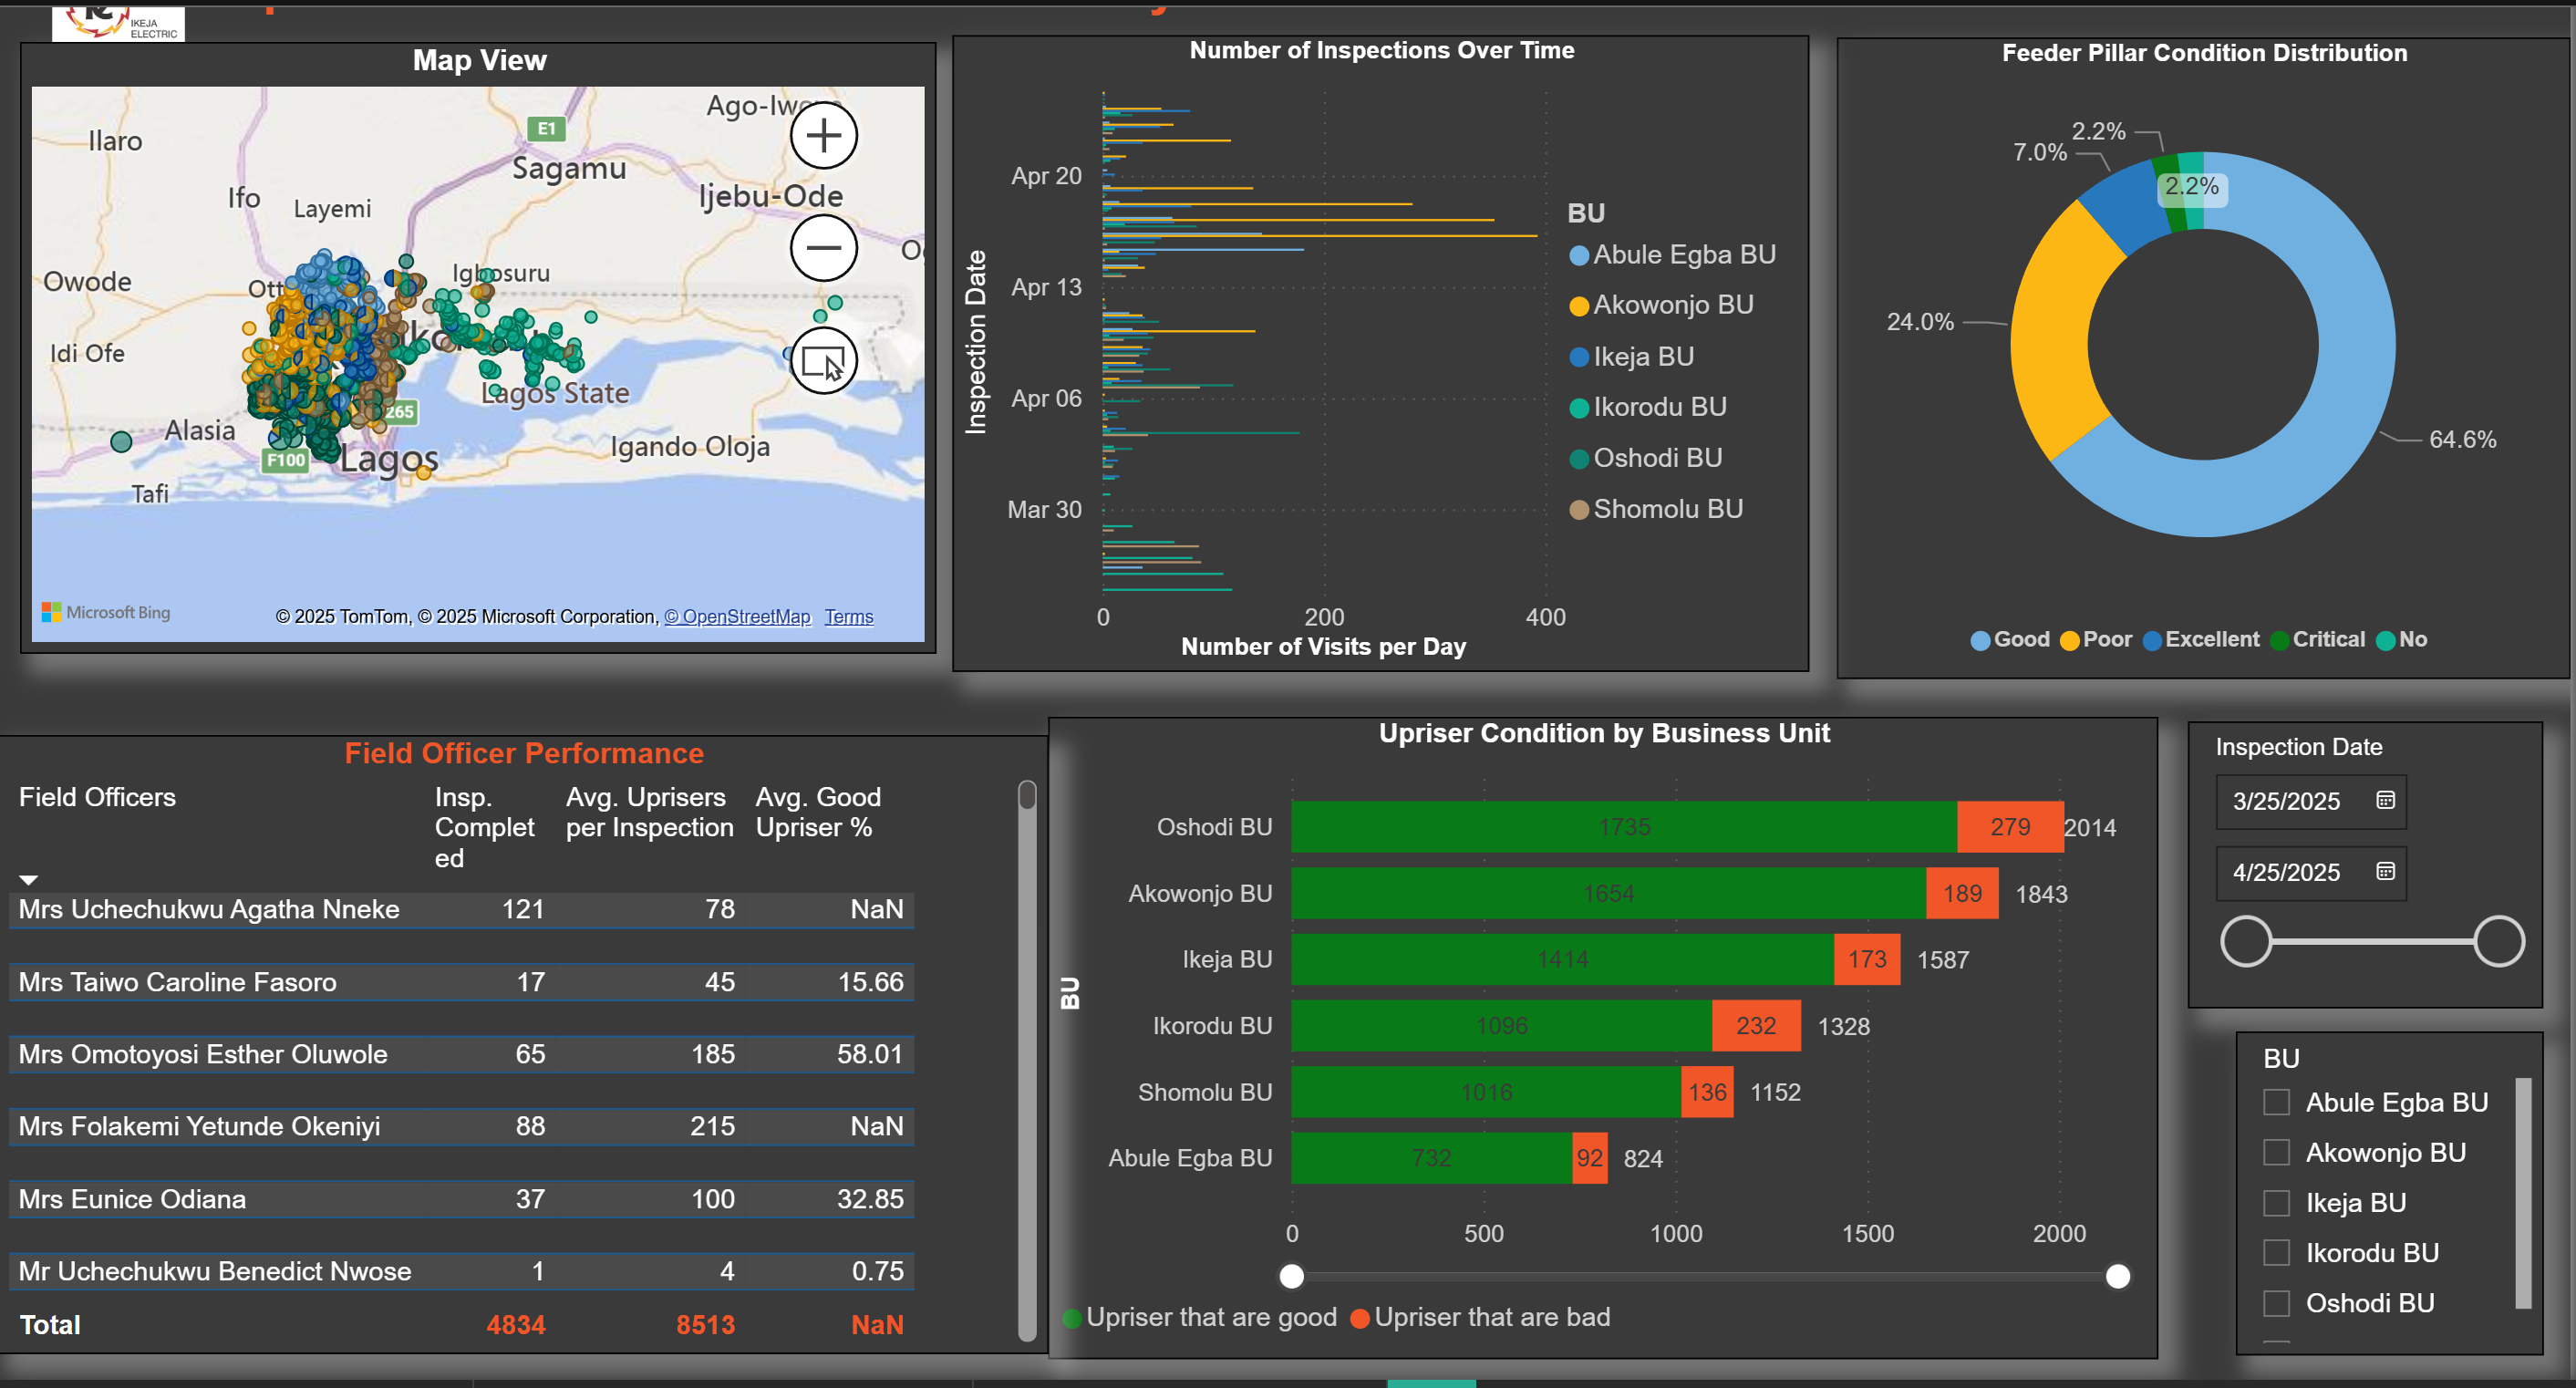

The page's visual inventory and layout, read from the dashboard file:
{"tool":"powerbi","page":{"name":"Upriser_FeederPillar_Dashboard","canvas":[1280,720],"ordinal":0},"visuals":[{"type":"textbox","title":"Upriser & Feeder Pillar Condition Analysis Dashboard","box":[108.8,12.2,716.5,36.7],"z":0},{"type":"image","box":[11,2.4,97.8,59.9],"z":1000},{"type":"group","id":"g1","title":"Group 1","box":[0,51.4,1280,659.4],"z":2000},{"type":"donutChart","title":"Feeder Pillar Condition Distribution","fields":{"Category":["IE_UPRISAL_DATA-demo.Condition of Feeder Pillar"],"Y":["CountNonNull(IE_UPRISAL_DATA-demo.Condition of Feeder Pillar)"]},"box":[915,52.1,365,319.4],"z":4000,"group":"g1"},{"type":"barChart","title":"Upriser Condition by Business Unit","fields":{"Category":["IE_UPRISAL_DATA-demo.BU"],"Y":["Sum(IE_UPRISAL_DATA-demo.Number of upriser that are good)","Sum(IE_UPRISAL_DATA-demo.Number of upriser that are bad)"]},"box":[523.3,391.1,552.3,319.8],"z":5000,"group":"g1"},{"type":"map","title":"Map View","fields":{"Size":["Sum(IE_UPRISAL_DATA-demo.Total number of Upriser)"],"Y":["IE_UPRISAL_DATA-demo.Latitude"],"X":["IE_UPRISAL_DATA-demo.Longitude"],"Series":["IE_UPRISAL_DATA-demo.BU"]},"box":[11,55,456.1,304.5],"z":6000,"group":"g1"},{"type":"slicer","fields":{"Values":["IE_UPRISAL_DATA-demo.Inspection Date"]},"box":[1090,393,176.9,142.9],"z":7000,"group":"g1"},{"type":"slicer","fields":{"Values":["IE_UPRISAL_DATA-demo.BU"]},"box":[1113.8,547.3,153.1,161.1],"z":8000,"group":"g1"},{"type":"clusteredBarChart","title":"Number of Inspections Over Time","fields":{"Category":["IE_UPRISAL_DATA-demo.Inspection Date.Variation.Date Hierarchy.Day"],"Y":["CountNonNull(IE_UPRISAL_DATA-demo.Timestamp)"],"Series":["IE_UPRISAL_DATA-demo.BU"]},"box":[475.5,51.4,426.3,317],"z":10000,"group":"g1"},{"type":"pivotTable","title":"Field Officer Performance","fields":{"Rows":["IE_UPRISAL_DATA-demo.FIELD OFFICERS"],"Values":["CountNonNull(IE_UPRISAL_DATA-demo.Timestamp)","Sum(IE_UPRISAL_DATA-demo.Total number of Upriser)","Sum(IE_UPRISAL_DATA-demo.Good Upriser %)"]},"box":[0,400,523.3,308.1],"z":11000,"group":"g1"}]}

Visuals, with their boxes on the page's 1280x720 design canvas (x1, y1, x2, y2). These are canvas units, not pixel positions in the 2576x1388 screenshot, which may show the page scaled, cropped or inside an application window:
"Upriser & Feeder Pillar Condition Analysis Dashboard" textbox: <box>109,12,825,49</box>
image: <box>11,2,109,62</box>
"Group 1" group: <box>0,51,1280,711</box>
"Feeder Pillar Condition Distribution" donutChart: <box>915,52,1280,372</box>
"Upriser Condition by Business Unit" barChart: <box>523,391,1076,711</box>
"Map View" map: <box>11,55,467,360</box>
slicer - IE_UPRISAL_DATA-demo.Inspection Date: <box>1090,393,1267,536</box>
slicer - IE_UPRISAL_DATA-demo.BU: <box>1114,547,1267,708</box>
"Number of Inspections Over Time" clusteredBarChart: <box>476,51,902,368</box>
"Field Officer Performance" pivotTable: <box>0,400,523,708</box>
